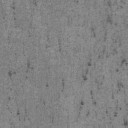oxide scale of temperature system: (43, 0, 128, 126), (7, 58, 34, 100), (12, 0, 38, 21), (16, 108, 26, 123), (57, 38, 62, 52), (73, 0, 80, 4), (52, 115, 54, 124)
